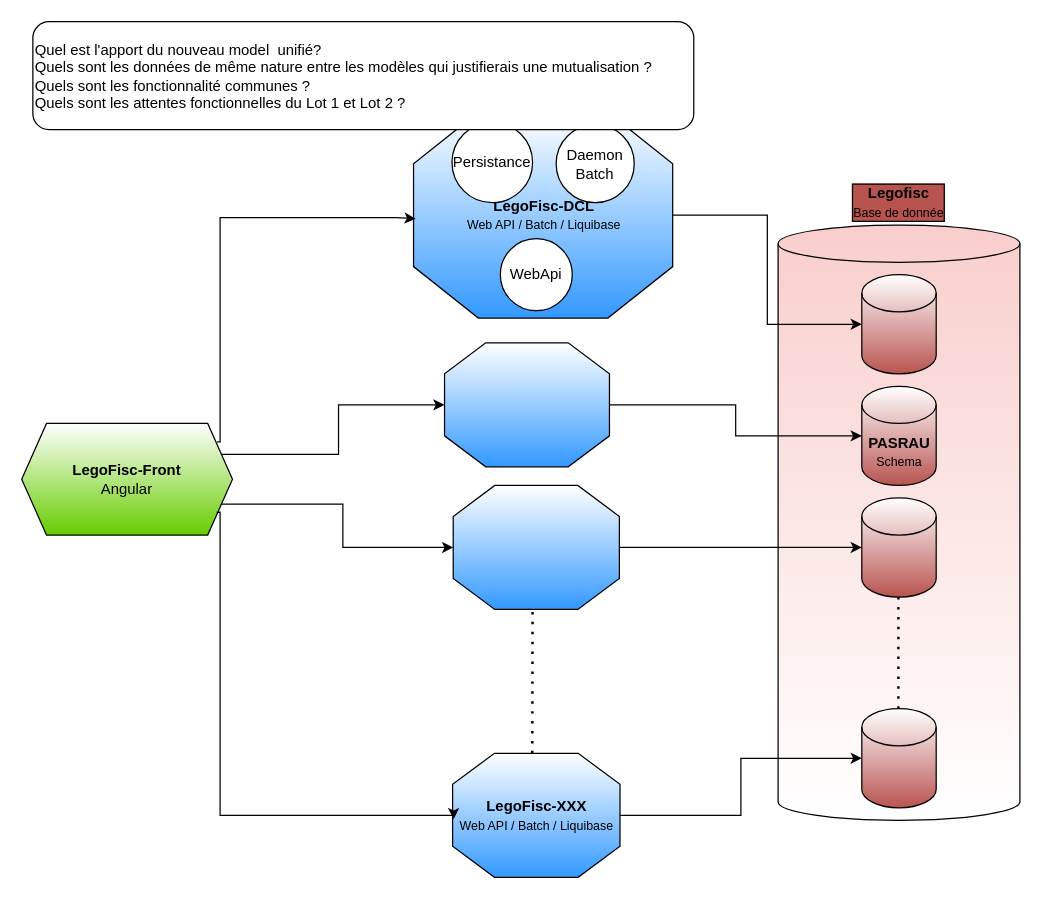
This 1042x899 diagram has some shape labels left out. The shapes that lost their labels are listed below. From the top down, each one's centre as x and y in pixels, then its label:
At point 898,323: "DCL Schema".
At point 526,404: "LegoFisc- PASRAU Web API / Batch / Liquibase".
At point 535,546: "LegoFisc- Ficovie Web API / Batch / Liquibase".
At point 898,547: "Ficovie Schema".
At point 898,757: "XXX Schema".
